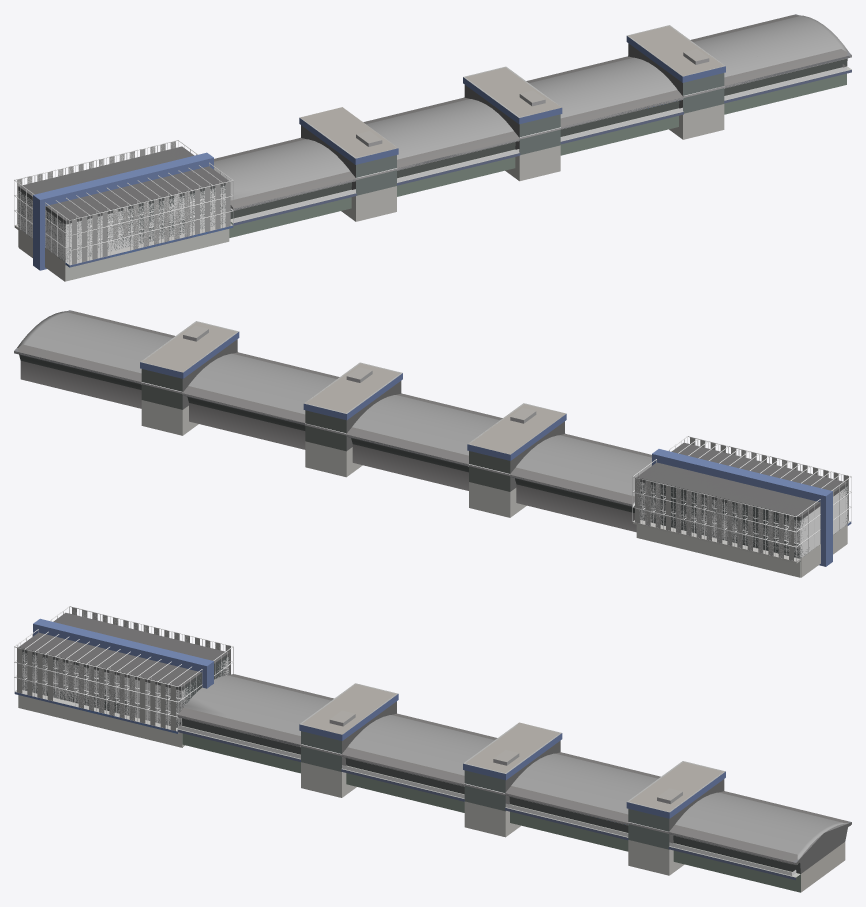
The model's file is pitlane_buildings.dae.
3 renders of one model, top to bottom at view 1: azimuth 30°, elevation 25°; view 2: azimuth 150°, elevation 25°; view 3: azimuth 330°, elevation 25°, orthographic.
Visible parts, largest first — view 1: pitlane_buildings_a500, pitlane_buildings_a1000, pitlane_buildings_a2000; view 2: pitlane_buildings_a500, pitlane_buildings_a1000, pitlane_buildings_a2000; view 3: pitlane_buildings_a500, pitlane_buildings_a1000, pitlane_buildings_a2000.
Part boxes in pixels (box(x1,y1,x2,y2)): pitlane_buildings_a500: box(18, 14, 851, 281); pitlane_buildings_a1000: box(14, 15, 851, 281); pitlane_buildings_a2000: box(14, 15, 848, 266); pitlane_buildings_a500: box(14, 310, 847, 577); pitlane_buildings_a1000: box(14, 311, 851, 577); pitlane_buildings_a2000: box(17, 311, 851, 562); pitlane_buildings_a500: box(18, 613, 851, 892); pitlane_buildings_a1000: box(14, 607, 850, 864); pitlane_buildings_a2000: box(14, 606, 848, 875).
Bounding box in the file's own units: 231 × 28.55 × 21.13.
